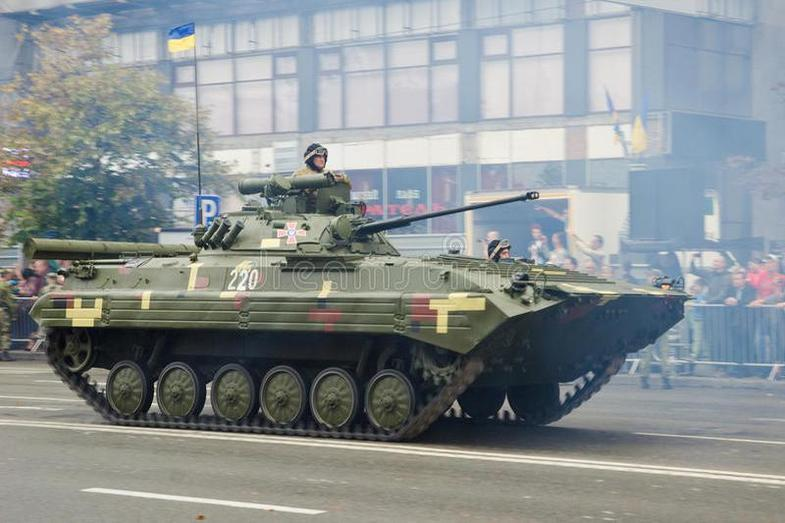bmp: (31, 193, 694, 437)
